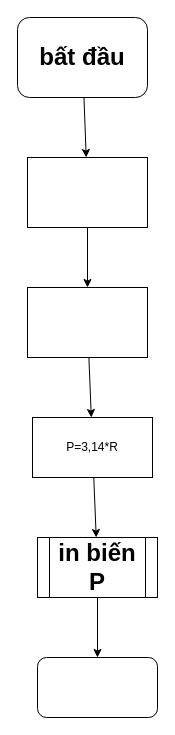
This 175x735 diagram has some shape labels left out. Here are the shapes that lost their labels. From the top down, the centre of each, then its label:
[87,192]: khai báo P,R
[87,322]: nhập R
